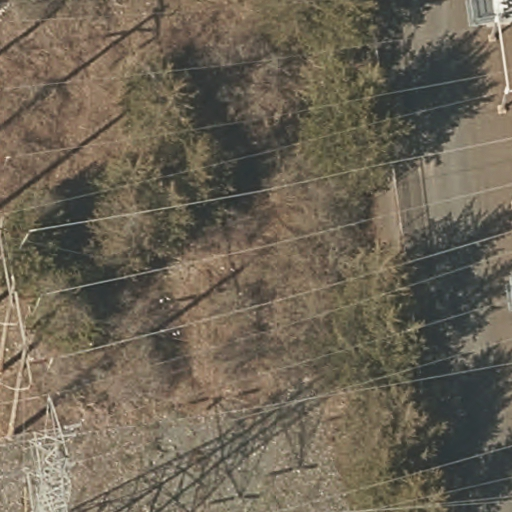TT: (27, 394, 84, 474)
